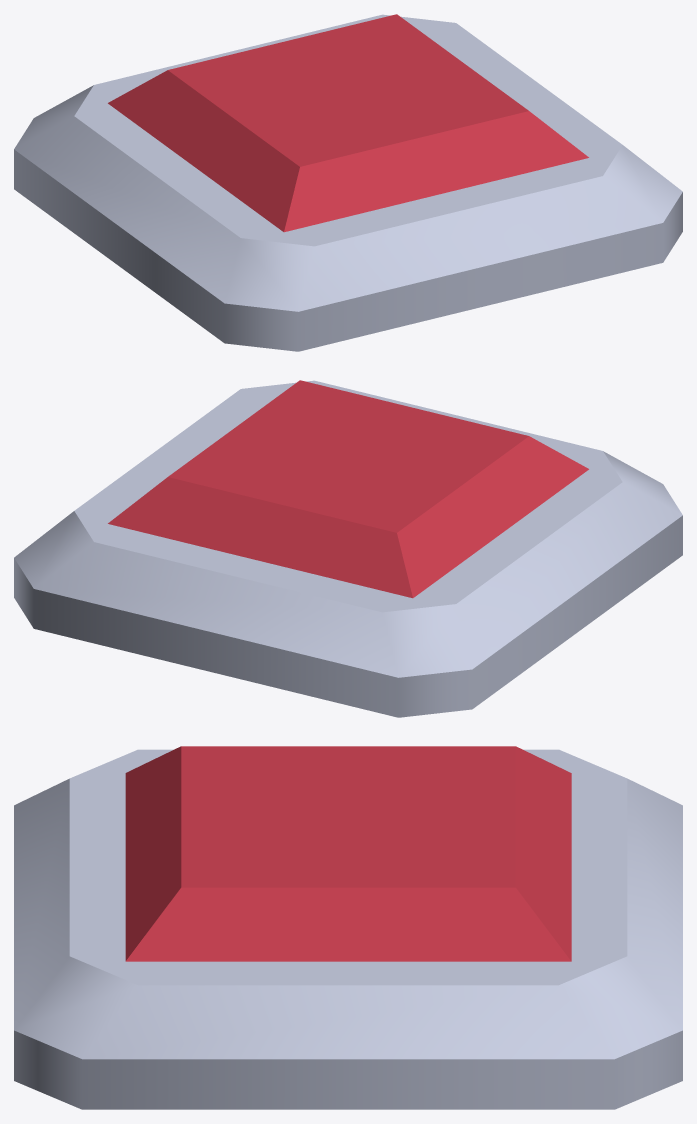
The model's file is buttonSquare.glb.
3 renders of one model, top to bottom at view 1: azimuth 30°, elevation 25°; view 2: azimuth 150°, elevation 25°; view 3: azimuth 270°, elevation 25°, orthographic. The views are drawn at different scales.
Visible parts, largest first — view 1: buttonSquare, knobSquare; view 2: buttonSquare, knobSquare; view 3: buttonSquare, knobSquare.
Boxes of the visible parts, x1=… form: buttonSquare: x1=14, y1=14, x2=682, y2=351; knobSquare: x1=108, y1=14, x2=588, y2=232; buttonSquare: x1=14, y1=380, x2=682, y2=717; knobSquare: x1=108, y1=380, x2=588, y2=598; buttonSquare: x1=14, y1=749, x2=682, y2=1109; knobSquare: x1=125, y1=746, x2=571, y2=961.
Bounding box in the file's own units: 0.6 × 0.15 × 0.6.
